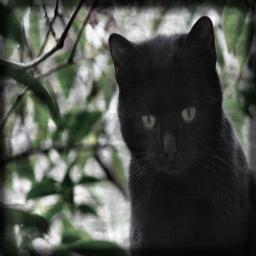catnose: (161, 128, 179, 162)
